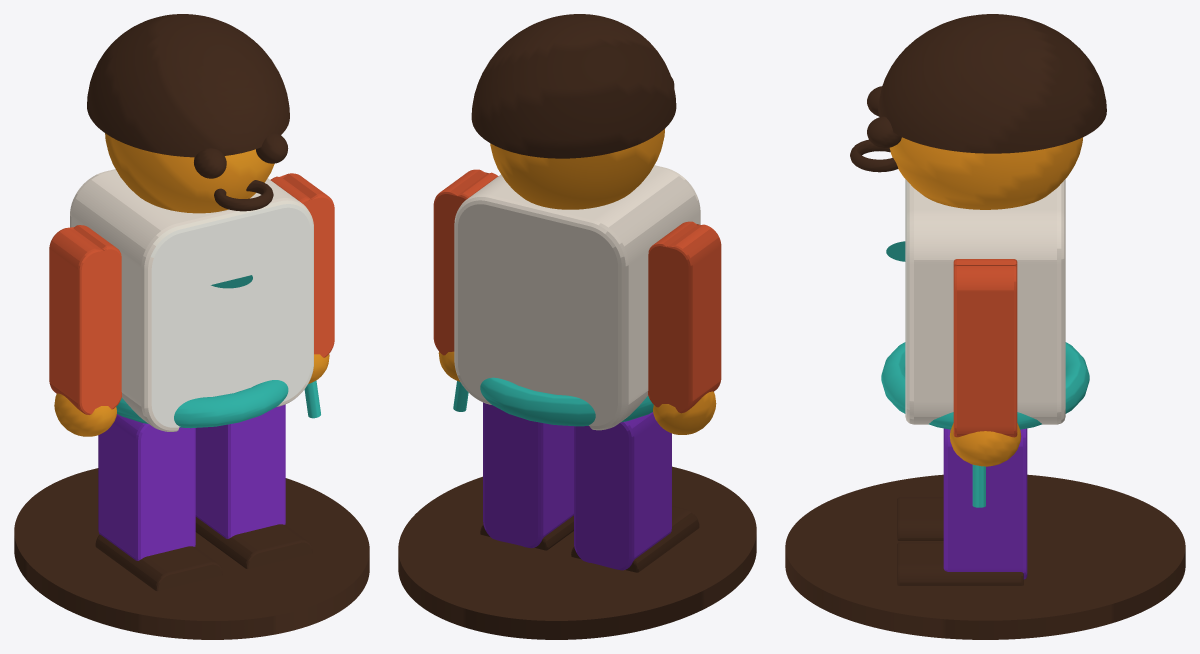
The picture shows the model from 3 angles, left to right: view 1: azimuth 30°, elevation 25°; view 2: azimuth 150°, elevation 25°; view 3: azimuth 270°, elevation 25°; orthographic projection. The views are drawn at different scales.
Parts seen in each view (by area): view 1: card_0718; view 2: card_0718; view 3: card_0718.
Boxes of the visible parts, x1=… form: card_0718: x1=14, y1=14, x2=369, y2=639; card_0718: x1=398, y1=14, x2=756, y2=639; card_0718: x1=785, y1=14, x2=1185, y2=639.
Bounding box in the file's own units: 0.5837 × 1 × 0.6684.
